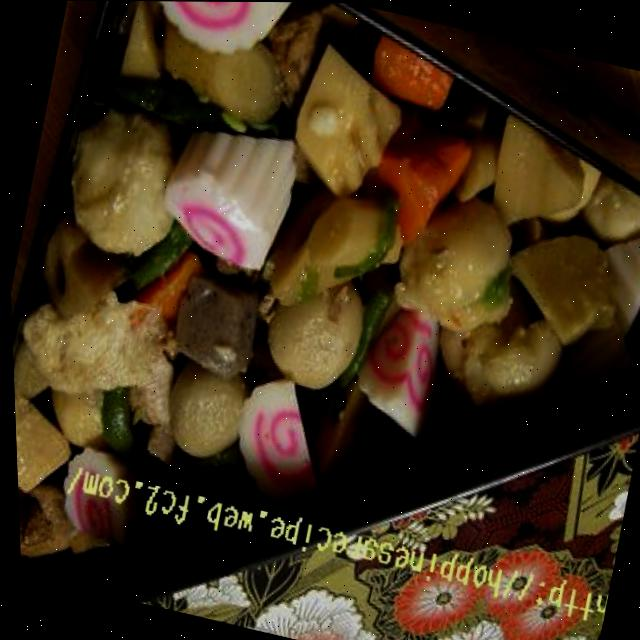鸡肉料理 含炸鸡: (0, 0, 541, 537)
